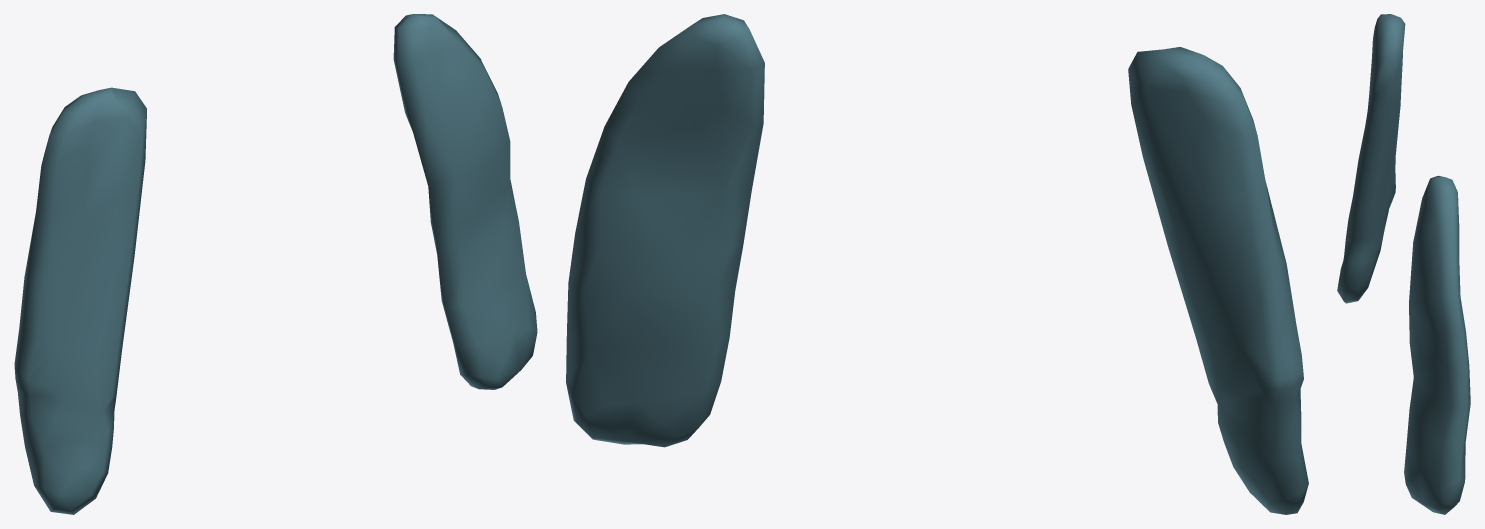
Rendered from Flexor_digitorum_superficialis-middle_phalanx_of_4th_finger_Gen.glb.
3 views of the same model, side by side, from view 1: azimuth 30°, elevation 25°; view 2: azimuth 150°, elevation 25°; view 3: azimuth 270°, elevation 25° (orthographic). The views are drawn at different scales.
Visible parts, largest first — view 1: Flexor_digitorum_superficialis-middle_phalanx_of_4th_finger_; view 2: Flexor_digitorum_superficialis-middle_phalanx_of_4th_finger_; view 3: Flexor_digitorum_superficialis-middle_phalanx_of_4th_finger_.
Boxes of the visible parts, x1,y1,x2,y2 form: Flexor_digitorum_superficialis-middle_phalanx_of_4th_finger_: (14, 14, 537, 514); Flexor_digitorum_superficialis-middle_phalanx_of_4th_finger_: (566, 14, 1308, 514); Flexor_digitorum_superficialis-middle_phalanx_of_4th_finger_: (1337, 14, 1470, 514).
Bounding box in the file's own units: 0.00788 × 0.00554 × 0.00206.
